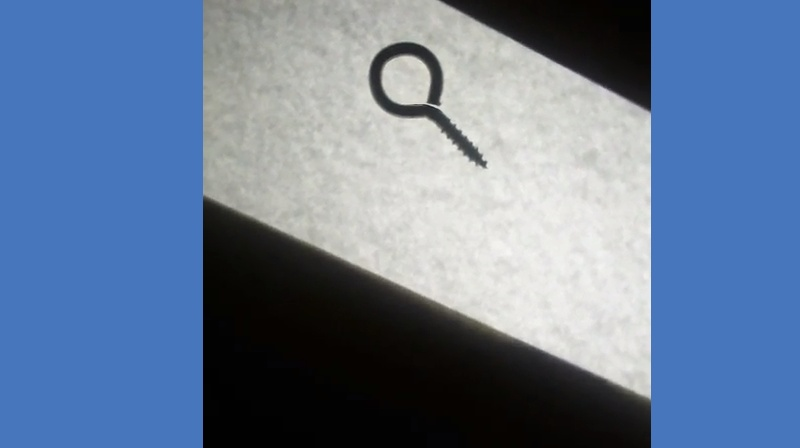O001: (365, 37, 487, 170)
